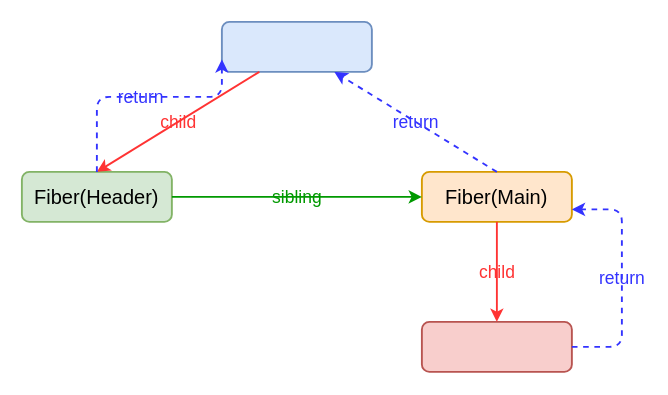
This 668x395 diagram has some shape labels left out. Here are the shapes that lost their labels. From the top down, the centre of each, then its label:
the point at 296,46: Fiber(App)
the point at 496,346: Fiber(p)
